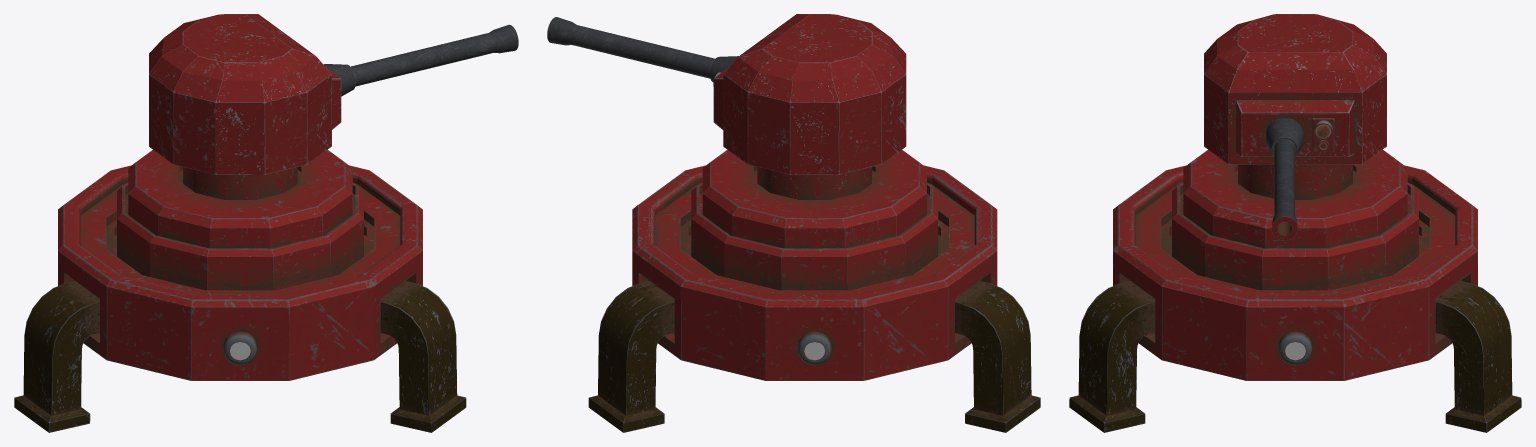
The model's file is gun1.obj.
3 views of the same model, side by side, from view 1: azimuth 30°, elevation 25°; view 2: azimuth 150°, elevation 25°; view 3: azimuth 270°, elevation 25° (orthographic).
Visible parts, largest first — view 1: Gun_Turret_Base_Mesh.001, Gun_Turret_Turret_Mesh.002; view 2: Gun_Turret_Base_Mesh.001, Gun_Turret_Turret_Mesh.002; view 3: Gun_Turret_Base_Mesh.001, Gun_Turret_Turret_Mesh.002, NightvisionAndSearchlight_Mesh.
Part boxes in pixels (left/top/right/bottom): Gun_Turret_Base_Mesh.001: left=14, top=149, right=466, bottom=432; Gun_Turret_Turret_Mesh.002: left=149, top=14, right=518, bottom=199; Gun_Turret_Base_Mesh.001: left=588, top=149, right=1040, bottom=432; Gun_Turret_Turret_Mesh.002: left=547, top=14, right=906, bottom=199; Gun_Turret_Base_Mesh.001: left=1069, top=150, right=1521, bottom=432; Gun_Turret_Turret_Mesh.002: left=1204, top=14, right=1386, bottom=240; NightvisionAndSearchlight_Mesh: left=1312, top=118, right=1334, bottom=151.
Bounding box in the file's own units: 2.9 × 1.94 × 2.39.
